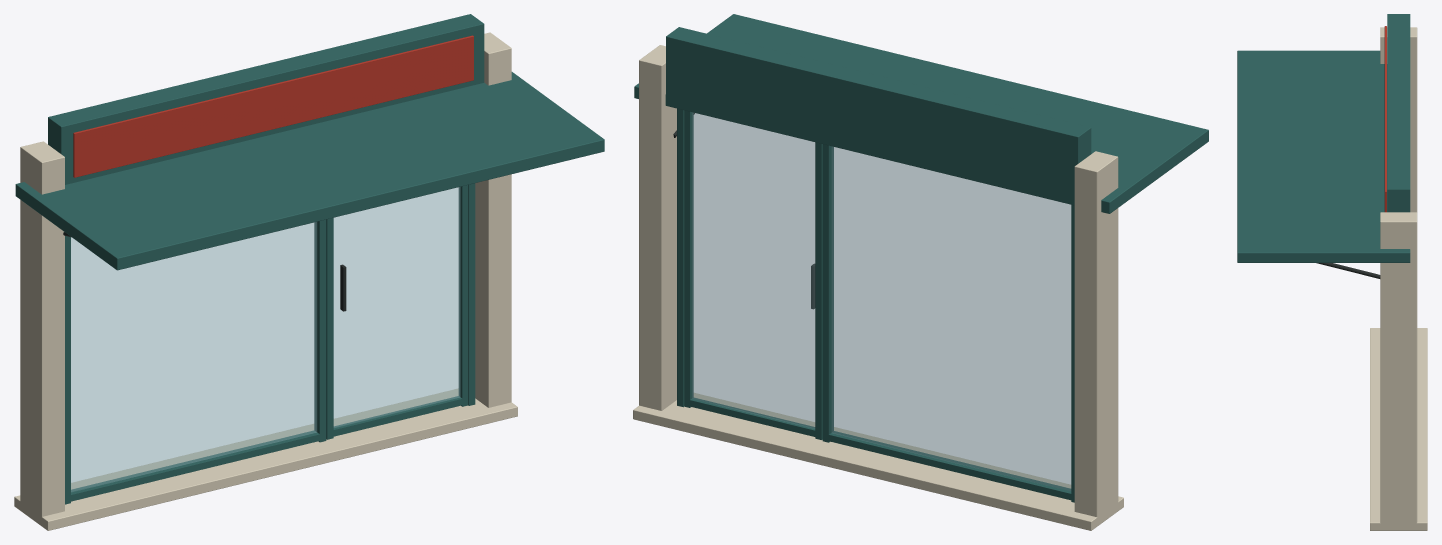
The model's file is source-edit.glb.
3 renders of one model, left to right at view 1: azimuth 30°, elevation 25°; view 2: azimuth 150°, elevation 25°; view 3: azimuth 270°, elevation 25°, orthographic. The views are drawn at different scales.
Parts seen in each view (by area): view 1: DISPLAY_Glass, CANOPY, DOOR_Glass, SIGN_ReplaceableFace, PIER_-1.9, THRESHOLD, SIGN_Backboard, PIER_1.9, FRAME_Rail_0.12, FRAME_Jamb_0.45, DOOR_Stile_1.67, FRAME_Jamb_1.72 (+3 smaller); view 2: DISPLAY_Glass, DOOR_Glass, SIGN_Backboard, CANOPY, PIER_-1.9, THRESHOLD, PIER_1.9, FRAME_Jamb_0.45, FRAME_Rail_0.12, DOOR_Stile_1.67, FRAME_Jamb_1.72, DOOR_Stile_0.52 (+2 smaller); view 3: CANOPY, PIER_1.9, SIGN_Backboard, THRESHOLD, PIER_-1.9, SIGN_ReplaceableFace, CANOPY_Bracket_1.8.
Boxes of the visible parts, x1=… form: DISPLAY_Glass: x1=71, y1=222, x2=316, y2=491; CANOPY: x1=15, y1=72, x2=604, y2=270; DOOR_Glass: x1=333, y1=187, x2=460, y2=427; SIGN_ReplaceableFace: x1=73, y1=35, x2=473, y2=177; PIER_-1.9: x1=20, y1=141, x2=64, y2=516; THRESHOLD: x1=14, y1=388, x2=517, y2=530; SIGN_Backboard: x1=48, y1=14, x2=484, y2=184; PIER_1.9: x1=475, y1=32, x2=511, y2=407; FRAME_Rail_0.12: x1=71, y1=430, x2=319, y2=501; FRAME_Jamb_0.45: x1=314, y1=219, x2=326, y2=442; DOOR_Stile_1.67: x1=458, y1=185, x2=468, y2=406; FRAME_Jamb_1.72: x1=468, y1=183, x2=475, y2=405; DISPLAY_Glass: x1=831, y1=146, x2=1071, y2=490; DOOR_Glass: x1=692, y1=112, x2=815, y2=428; SIGN_Backboard: x1=666, y1=27, x2=1091, y2=194; CANOPY: x1=634, y1=14, x2=1208, y2=213; PIER_-1.9: x1=1074, y1=151, x2=1118, y2=517; THRESHOLD: x1=633, y1=393, x2=1123, y2=530; PIER_1.9: x1=639, y1=45, x2=676, y2=410; FRAME_Jamb_0.45: x1=822, y1=144, x2=833, y2=442; FRAME_Rail_0.12: x1=828, y1=431, x2=1071, y2=500; DOOR_Stile_1.67: x1=684, y1=110, x2=693, y2=407; FRAME_Jamb_1.72: x1=677, y1=108, x2=684, y2=407; DOOR_Stile_0.52: x1=815, y1=142, x2=822, y2=439; CANOPY: x1=1237, y1=50, x2=1410, y2=262; PIER_1.9: x1=1380, y1=212, x2=1417, y2=526; SIGN_Backboard: x1=1387, y1=14, x2=1410, y2=212; THRESHOLD: x1=1370, y1=328, x2=1427, y2=530; PIER_-1.9: x1=1380, y1=27, x2=1417, y2=212; SIGN_ReplaceableFace: x1=1384, y1=26, x2=1386, y2=212; CANOPY_Bracket_1.8: x1=1316, y1=263, x2=1380, y2=278.
Size of the model in its own units: 4.15 by 3.18 by 1.65.
